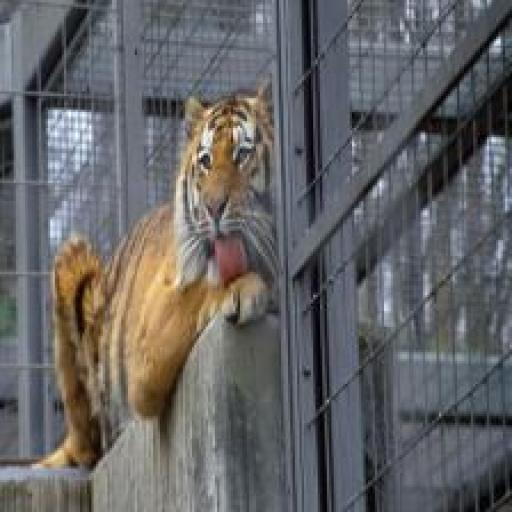Tiger: (43, 78, 278, 426)
